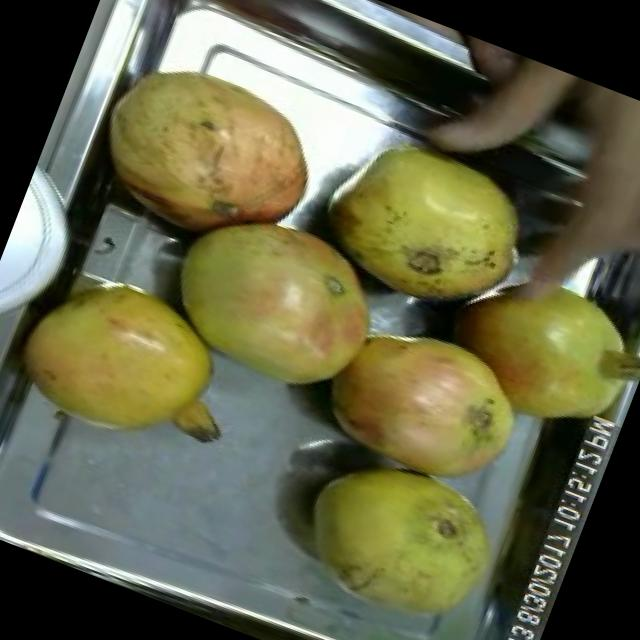fruit: (69, 24, 356, 282), (133, 173, 419, 427), (290, 104, 562, 343), (0, 241, 264, 484), (298, 296, 554, 512), (269, 425, 524, 640), (420, 236, 640, 456)
